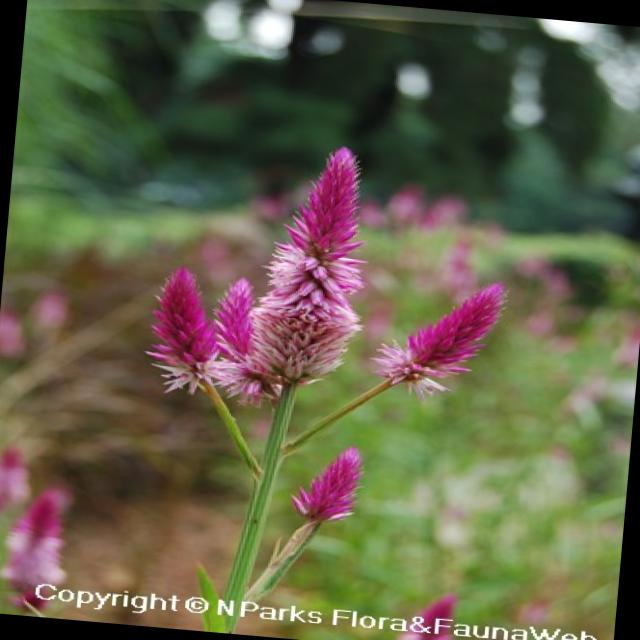Celosia-Argentea: (128, 126, 520, 538)
